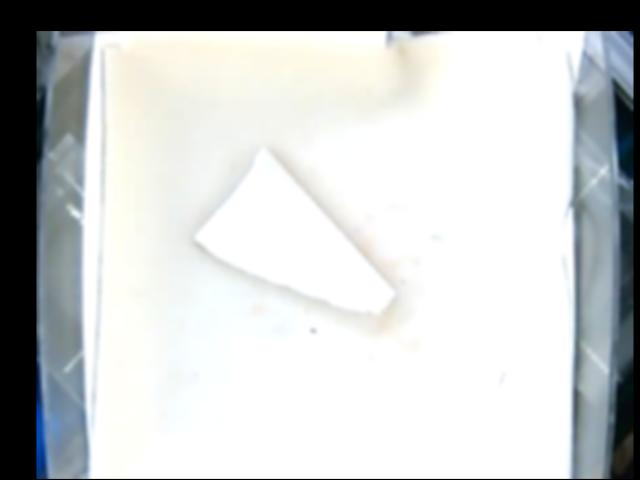China: (194, 146, 394, 318)
